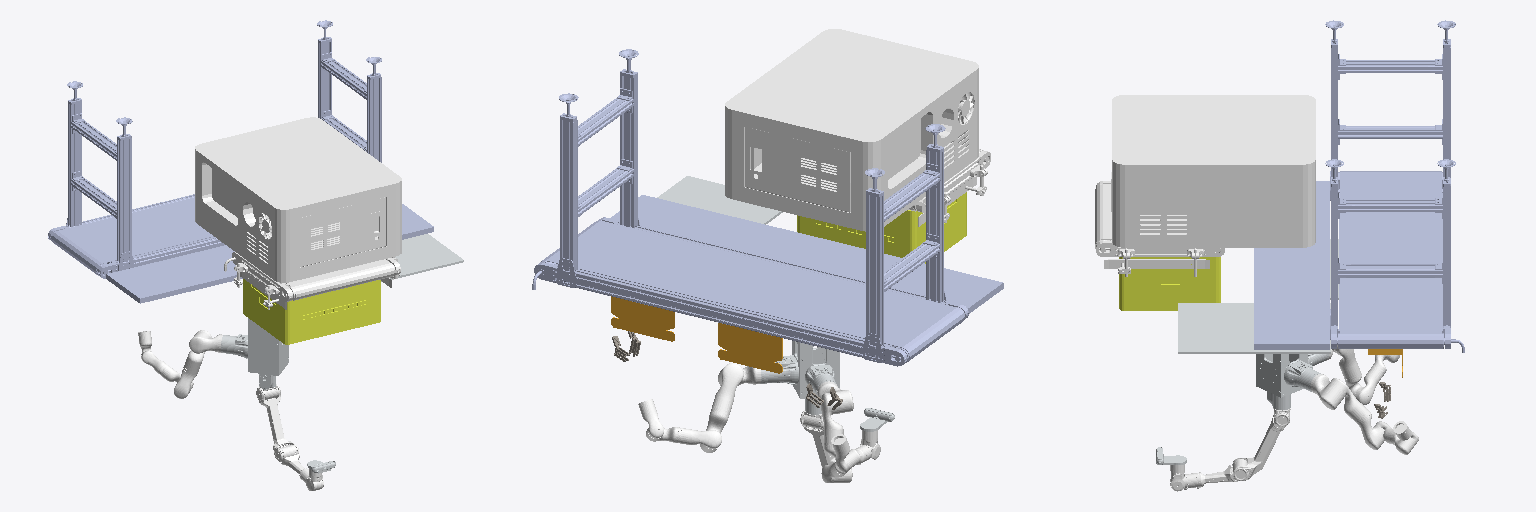
--- Render facts (derived) ---
The picture shows the robot from 3 angles, left to right: view 1: azimuth 30°, elevation 25°; view 2: azimuth 150°, elevation 25°; view 3: azimuth 270°, elevation 25°; orthographic projection.
Model robot_V26 with 31 links and 30 joints (23 revolute, 7 fixed), rooted at base_link, posed every joint at zero.
Links seen in each view (by area): view 1: bsae4, PD, box_link, platform_link, base2, Link_S2, Link_B2, Link_B1; view 2: PD, bsae4, box_link, platform_link, base2, Sbox2, Sbox1, Link_A2, Link_B2, Link_A3, Link_B1, Link_A5 (+1 smaller); view 3: PD, bsae4, base2, box_link, platform_link, Link_S2, Link_A2, Link_A1, Link_B2, Link_S3, Link_B3.
Link boxes in pixels (x1,y1,x2,y2): bsae4: (195,117,401,309); PD: (48,20,433,303); box_link: (243,279,380,344); platform_link: (221,318,288,389); base2: (381,234,463,281); Link_S2: (256,386,298,461); Link_B2: (174,330,211,398); Link_B1: (189,332,222,353); PD: (532,49,1003,366); bsae4: (725,29,990,231); box_link: (797,192,966,263); platform_link: (760,341,839,414); base2: (657,176,782,224); Sbox2: (718,323,782,373); Sbox1: (611,296,674,341); Link_A2: (700,363,743,452); Link_B2: (821,393,852,482); Link_A3: (677,427,721,448); Link_B1: (817,381,853,414); Link_A5: (638,399,663,437); PD: (1254,20,1464,352); bsae4: (1095,95,1315,276); base2: (1178,303,1330,353); box_link: (1119,257,1220,310); platform_link: (1256,354,1328,410); Link_S2: (1232,412,1289,480); Link_A2: (1331,378,1384,449); Link_A1: (1311,374,1346,409); Link_B2: (1336,345,1363,396); Link_S3: (1186,459,1247,488); Link_B3: (1356,365,1384,404).
Size in the robot's own frame: 1.56 by 1.45 by 1.72 metres.
28 mesh visuals loaded from 31 distinct referenced files (28 binary STL); not drawn: 3 (reference not matched to a file when rendering).

URDF robot description (robot_V26):
<?xml version="1.0" encoding="utf-8"?>
<!-- This URDF was automatically created by SolidWorks to URDF Exporter! Originally created by Stephen Brawner ([email redacted]) 
     Commit Version: 1.6.0-4-g7f85cfe  Build Version: 1.6.7995.38578
     For more information, please see http://wiki.ros.org/sw_urdf_exporter -->
<robot
  name="robot_V26">
  <link
    name="base_link">
    <inertial>
      <origin
        xyz="0.000433147072937283 -0.0560104420122413 0.235023220634512"
        rpy="0 0 0" />
      <mass
        value="186.068426983297" />
      <inertia
        ixx="5.13366744953187"
        ixy="4.82885339620413E-08"
        ixz="-2.48383948380018E-09"
        iyy="9.61398925705965"
        iyz="0.0555472265211471"
        izz="8.42705967760061" />
    </inertial>
    <visual>
      <origin
        xyz="0 0 0"
        rpy="0 0 0" />
      <geometry>
        <mesh
          filename="../meshes/base_link.STL" />
      </geometry>
      <material
        name="">
        <color
          rgba="0.6 0.6 0.6 1" />
      </material>
    </visual>
    <collision>
      <origin
        xyz="0 0 0"
        rpy="0 0 0" />
      <geometry>
        <mesh
          filename="../meshes/base_link.STL" />
      </geometry>
    </collision>
  </link>
  <link
    name="platform_link">
    <inertial>
      <origin
        xyz="0.00621557288384057 0.0303445183415779 -0.183382568462776"
        rpy="0 0 0" />
      <mass
        value="6.07294405347568" />
      <inertia
        ixx="0.0337898340637685"
        ixy="-0.00102088842956734"
        ixz="-7.64193248724239E-06"
        iyy="0.0339585958829543"
        iyz="-5.04855556084014E-05"
        izz="0.0128636661576432" />
    </inertial>
    <visual>
      <origin
        xyz="0 0 0"
        rpy="0 0 0" />
      <geometry>
        <mesh
          filename="../meshes/platform_link.STL" />
      </geometry>
      <material
        name="">
        <color
          rgba="0.898039215686275 0.917647058823529 0.929411764705882 1" />
      </material>
    </visual>
    <collision>
      <origin
        xyz="0 0 0"
        rpy="0 0 0" />
      <geometry>
        <mesh
          filename="../meshes/platform_link.STL" />
      </geometry>
    </collision>
  </link>
  <joint
    name="joint_platform_D1"
    type="revolute">
    <origin
      xyz="0 0 0"
      rpy="0 0 0" />
    <parent
      link="base_link" />
    <child
      link="platform_link" />
    <axis
      xyz="0 0 -1" />
    <limit
      lower="-3.14"
      upper="3.14"
      effort="100"
      velocity="50" />
  </joint>
  <link
    name="Link_A1">
    <inertial>
      <origin
        xyz="0.0169308367894223 0.0125928013215484 0.0768128774242119"
        rpy="0 0 0" />
      <mass
        value="0.593525762282562" />
      <inertia
        ixx="0.001211740353914"
        ixy="-4.04510751675718E-05"
        ixz="-0.000169403894082202"
        iyy="0.00123597531032555"
        iyz="-0.000126111277061559"
        izz="0.000561310092473764" />
    </inertial>
    <visual>
      <origin
        xyz="0 0 0"
        rpy="0 0 0" />
      <geometry>
        <mesh
          filename="../meshes/Link_A1.STL" />
      </geometry>
      <material
        name="">
        <color
          rgba="1 1 1 1" />
      </material>
    </visual>
    <collision>
      <origin
        xyz="0 0 0"
        rpy="0 0 0" />
      <geometry>
        <mesh
          filename="../meshes/Link_A1.STL" />
      </geometry>
    </collision>
  </link>
  <joint
    name="joint_platform_A1"
    type="revolute">
    <origin
      xyz="0.156472683129336 0.142433967655858 -0.227311716711955"
      rpy="-1.57079632679501 0 -0.826733214100753" />
    <parent
      link="platform_link" />
    <child
      link="Link_A1" />
    <axis
      xyz="0 0 1" />
    <limit
      lower="-3.14"
      upper="3.14"
      effort="100"
      velocity="50" />
  </joint>
  <link
    name="Link_A2">
    <inertial>
      <origin
        xyz="-0.0126344741529678 -0.151722416547969 0.0226638905008693"
        rpy="0 0 0" />
      <mass
        value="0.86418121779446" />
      <inertia
        ixx="0.00204291602200734"
        ixy="-0.000117497066496082"
        ixz="3.49972875797524E-05"
        iyy="0.00064232321003002"
        iyz="0.000420166412207833"
        izz="0.00195279780759874" />
    </inertial>
    <visual>
      <origin
        xyz="0 0 0"
        rpy="0 0 0" />
      <geometry>
        <mesh
          filename="../meshes/Link_A2.STL" />
      </geometry>
      <material
        name="">
        <color
          rgba="1 1 1 1" />
      </material>
    </visual>
    <collision>
      <origin
        xyz="0 0 0"
        rpy="0 0 0" />
      <geometry>
        <mesh
          filename="../meshes/Link_A2.STL" />
      </geometry>
    </collision>
  </link>
  <joint
    name="joint_platform_A2"
    type="revolute">
    <origin
      xyz="-0.0132108472999706 -0.00983204731723247 0.101999999998849"
      rpy="-1.5707963267949 -1.06818707313174 -0.930882582622158" />
    <parent
      link="Link_A1" />
    <child
      link="Link_A2" />
    <axis
      xyz="0 0 1" />
    <limit
      lower="-2.26"
      upper="2.26"
      effort="100"
      velocity="50" />
  </joint>
  <link
    name="Link_A3">
    <inertial>
      <origin
        xyz="0.0578270540391275 -0.0144992247222056 0.00266652645528004"
        rpy="0 0 0" />
      <mass
        value="0.289645631718229" />
      <inertia
        ixx="0.000184905971778833"
        ixy="0.000113389606191271"
        ixz="-0.000140277058410494"
        iyy="0.000608954988576286"
        iyz="3.51374387511307E-05"
        izz="0.000614182812194689" />
    </inertial>
    <visual>
      <origin
        xyz="0 0 0"
        rpy="0 0 0" />
      <geometry>
        <mesh
          filename="../meshes/Link_A3.STL" />
      </geometry>
      <material
        name="">
        <color
          rgba="1 1 1 1" />
      </material>
    </visual>
    <collision>
      <origin
        xyz="0 0 0"
        rpy="0 0 0" />
      <geometry>
        <mesh
          filename="../meshes/Link_A3.STL" />
      </geometry>
    </collision>
  </link>
  <joint
    name="joint_platform_A3"
    type="revolute">
    <origin
      xyz="-0.0212703972736464 -0.255104561293881 0.00352514725879639"
      rpy="0 0 0" />
    <parent
      link="Link_A2" />
    <child
      link="Link_A3" />
    <axis
      xyz="0 0 1" />
    <limit
      lower="-2.26"
      upper="2.26"
      effort="100"
      velocity="50" />
  </joint>
  <link
    name="Link_A4">
    <inertial>
      <origin
        xyz="0.0168960078739982 -0.00633304042254657 -0.0599615142706841"
        rpy="0 0 0" />
      <mass
        value="0.239433776203735" />
      <inertia
        ixx="0.000265607042244076"
        ixy="7.64305472317407E-06"
        ixz="4.14131928527047E-05"
        iyy="0.000283077938628801"
        iyz="-1.55624790065709E-05"
        izz="0.000119899347836856" />
    </inertial>
    <visual>
      <origin
        xyz="0 0 0"
        rpy="0 0 0" />
      <geometry>
        <mesh
          filename="../meshes/Link_A4.STL" />
      </geometry>
      <material
        name="">
        <color
          rgba="1 1 1 1" />
      </material>
    </visual>
    <collision>
      <origin
        xyz="0 0 0"
        rpy="0 0 0" />
      <geometry>
        <mesh
          filename="../meshes/Link_A4.STL" />
      </geometry>
    </collision>
  </link>
  <joint
    name="joint_platform_A4"
    type="revolute">
    <origin
      xyz="0.124662762966528 -0.0312689999385135 0.013235949944407"
      rpy="-1.5707963267949 -1.21130110529 1.32513220794321" />
    <parent
      link="Link_A3" />
    <child
      link="Link_A4" />
    <axis
      xyz="0 0 -1" />
    <limit
      lower="-3.14"
      upper="3.14"
      effort="100"
      velocity="50" />
  </joint>
  <link
    name="Link_A5">
    <inertial>
      <origin
        xyz="0.038009420996225 0.0456440435563882 0.00506811024883674"
        rpy="0 0 0" />
      <mass
        value="0.21879390742709" />
      <inertia
        ixx="0.000249967652296182"
        ixy="-0.000120769330574946"
        ixz="-5.00570636284899E-05"
        iyy="0.000205482026171739"
        iyz="-6.01294716590356E-05"
        izz="0.000334465809435568" />
    </inertial>
    <visual>
      <origin
        xyz="0 0 0"
        rpy="0 0 0" />
      <geometry>
        <mesh
          filename="../meshes/Link_A5.STL" />
      </geometry>
      <material
        name="">
        <color
          rgba="1 1 1 1" />
      </material>
    </visual>
    <collision>
      <origin
        xyz="0 0 0"
        rpy="0 0 0" />
      <geometry>
        <mesh
          filename="../meshes/Link_A5.STL" />
      </geometry>
    </collision>
  </link>
  <joint
    name="joint_platform_A5"
    type="revolute">
    <origin
      xyz="-0.0113606247812901 0.0042683371510126 -0.0814999999999998"
      rpy="1.5707963267949 1.32513220794321 1.21130110529" />
    <parent
      link="Link_A4" />
    <child
      link="Link_A5" />
    <axis
      xyz="0 0 1" />
    <limit
      lower="-2.2"
      upper="2.2"
      effort="100"
      velocity="50" />
  </joint>
  <link
    name="Link_A6">
    <inertial>
      <origin
        xyz="0.0103201473783717 0.0231563190196556 0.0565997915426926"
        rpy="0 0 0" />
      <mass
        value="0.451431232657582" />
      <inertia
        ixx="0.00022927173803935"
        ixy="-4.51808436026412E-05"
        ixz="-4.22975637695025E-09"
        iyy="0.000147938161669035"
        iyz="-3.34078039209366E-08"
        izz="0.000355045117472867" />
    </inertial>
    <visual>
      <origin
        xyz="0 0 0"
        rpy="0 0 0" />
      <geometry>
        <mesh
          filename="../meshes/Link_A6.STL" />
      </geometry>
      <material
        name="">
        <color
          rgba="1 1 1 1" />
      </material>
    </visual>
    <collision>
      <origin
        xyz="0 0 0"
        rpy="0 0 0" />
      <geometry>
        <mesh
          filename="../meshes/Link_A6.STL" />
      </geometry>
    </collision>
  </link>
  <joint
    name="joint_platform_A6"
    type="revolute">
    <origin
      xyz="0.0736102642149934 0.0883749191141996 0.0124357145512975"
      rpy="-1.57079646161027 -0.699913541621339 -0.694444981452453" />
    <parent
      link="Link_A5" />
    <child
      link="Link_A6" />
    <axis
      xyz="0 0 0.999999999999972" />
    <limit
      lower="-6.2"
      upper="6.2"
      effort="100"
      velocity="50" />
  </joint>
  <link
    name="gripper1_joint_L1">
    <inertial>
      <origin
        xyz="0.0193485447750683 0.0118828476099397 0.00284999999999991"
        rpy="0 0 0" />
      <mass
        value="0.000941962264171641" />
      <inertia
        ixx="3.71698394795775E-09"
        ixy="6.46234853557053E-26"
        ixz="2.68833699079734E-24"
        iyy="3.71698394795775E-09"
        iyz="1.93870456067116E-24"
        izz="4.66459883925088E-09" />
    </inertial>
    <visual>
      <origin
        xyz="0 0 0"
        rpy="0 0 0" />
      <geometry>
        <mesh
          filename="../meshes/gripper1_joint_L1.STL" />
      </geometry>
      <material
        name="">
        <color
          rgba="0.647058823529412 0.619607843137255 0.588235294117647 1" />
      </material>
    </visual>
    <collision>
      <origin
        xyz="0 0 0"
        rpy="0 0 0" />
      <geometry>
        <mesh
          filename="../meshes/gripper1_joint_L1.STL" />
      </geometry>
    </collision>
  </link>
  <joint
    name="joint_L1"
    type="revolute">
    <origin
      xyz="0.0287436344008424 -0.00953338282129984 0.171668647520541"
      rpy="1.57079661563452 -0.608970776956548 -0.419093504395419" />
    <parent
      link="Link_A6" />
    <child
      link="gripper1_joint_L1" />
    <axis
      xyz="0 0 -1" />
    <limit
      lower="-1.5"
      upper="1.5"
      effort="100"
      velocity="5" />
  </joint>
  <link
    name="gripper1_joint_L11">
    <inertial>
      <origin
        xyz="-0.00547756233416546 -0.0220453575041241 0.00234999999999985"
        rpy="0 0 0" />
      <mass
        value="0.000941962264171641" />
      <inertia
        ixx="3.71698394795776E-09"
        ixy="1.68021061924834E-25"
        ixz="2.06795153138257E-25"
        iyy="3.71698394795776E-09"
        iyz="-1.55096364853693E-25"
        izz="4.66459883925089E-09" />
    </inertial>
    <visual>
      <origin
        xyz="0 0 0"
        rpy="0 0 0" />
      <geometry>
        <mesh
          filename="../meshes/gripper1_joint_L11.STL" />
      </geometry>
      <material
        name="">
        <color
          rgba="0.647058823529412 0.619607843137255 0.588235294117647 1" />
      </material>
    </visual>
    <collision>
      <origin
        xyz="0 0 0"
        rpy="0 0 0" />
      <geometry>
        <mesh
          filename="../meshes/gripper1_joint_L11.STL" />
      </geometry>
    </collision>
  </link>
  <joint
    name="joint_L11"
    type="revolute">
    <origin
      xyz="-0.0263219176910475 0.0149975228847674 0.171647022948943"
      rpy="-1.57079662537937 0.654311324220914 2.72249913269507" />
    <parent
      link="Link_A6" />
    <child
      link="gripper1_joint_L11" />
    <axis
      xyz="0 0 -1" />
    <limit
      lower="-3.14"
      upper="3.14"
      effort="100"
      velocity="5" />
  </joint>
  <link
    name="Link_B1">
    <inertial>
      <origin
        xyz="-0.0210307613582223 -0.0018029682366224 0.0768121445945208"
        rpy="0 0 0" />
      <mass
        value="0.593520735842376" />
      <inertia
        ixx="0.00118220902268505"
        ixy="-7.13360807959133E-06"
        ixz="0.000210418401826395"
        iyy="0.00126545372417533"
        iyz="1.79133915985154E-05"
        izz="0.000561301309181966" />
    </inertial>
    <visual>
      <origin
        xyz="0 0 0"
        rpy="0 0 0" />
      <geometry>
        <mesh
          filename="../meshes/Link_B1.STL" />
      </geometry>
      <material
        name="">
        <color
          rgba="1 1 1 1" />
      </material>
    </visual>
    <collision>
      <origin
        xyz="0 0 0"
        rpy="0 0 0" />
      <geometry>
        <mesh
          filename="../meshes/Link_B1.STL" />
      </geometry>
    </collision>
  </link>
  <joint
    name="joint_platform_B1"
    type="revolute">
    <origin
      xyz="-0.142473632839857 0.155636147433961 -0.227311716711636"
      rpy="-1.57079632679501 0 0.744063112694143" />
    <parent
      link="platform_link" />
    <child
      link="Link_B1" />
    <axis
      xyz="0 0 1" />
    <limit
      lower="-3.1"
      upper="3.1"
      effort="100"
      velocity="50" />
  </joint>
  <link
    name="Link_B2">
    <inertial>
      <origin
        xyz="-0.05129234753464 0.143368762266122 -0.022663815567925"
        rpy="0 0 0" />
      <mass
        value="0.86418023642289" />
      <inertia
        ixx="0.00189155350029881"
        ixy="0.000450453971938174"
        ixz="-0.000142032222820076"
        iyy="0.000793701619531189"
        iyz="0.000396980897230203"
        izz="0.00195281240968516" />
    </inertial>
    <visual>
      <origin
        xyz="0 0 0"
        rpy="0 0 0" />
      <geometry>
        <mesh
          filename="../meshes/Link_B2.STL" />
      </geometry>
      <material
        name="">
        <color
          rgba="1 1 1 1" />
      </material>
    </visual>
    <collision>
      <origin
        xyz="0 0 0"
        rpy="0 0 0" />
      <geometry>
        <mesh
          filename="../meshes/Link_B2.STL" />
      </geometry>
    </collision>
  </link>
  <joint
    name="joint_platform_B2"
    type="revolute">
    <origin
      xyz="0.0164025952708852 0.00137401341327159 0.102000000000029"
      rpy="0.0849621690785075 1.5707963267949 0" />
    <parent
      link="Link_B1" />
    <child
      link="Link_B2" />
    <axis
      xyz="0 0 1" />
    <limit
      lower="-2.26"
      upper="2.26"
      effort="100"
      velocity="50" />
  </joint>
  <link
    name="Link_B3">
    <inertial>
      <origin
        xyz="-0.0445835519365935 0.0396010729673631 0.00266699546761176"
        rpy="0 0 0" />
      <mass
        value="0.289639334892493" />
      <inertia
        ixx="0.000368538526302153"
        ixy="0.000238752152606206"
        ixz="0.000108127863740364"
        iyy="0.00042530023019444"
        iyz="-9.60150249020287E-05"
        izz="0.000614165798652773" />
    </inertial>
    <visual>
      <origin
        xyz="0 0 0"
        rpy="0 0 0" />
      <geometry>
        <mesh
          filename="../meshes/Link_B3.STL" />
      </geometry>
      <material
        name="">
        <color
          rgba="1 1 1 1" />
      </material>
    </visual>
    <collision>
      <origin
        xyz="0 0 0"
        rpy="0 0 0" />
      <geometry>
        <mesh
          filename="../meshes/Link_B3.STL" />
      </geometry>
    </collision>
  </link>
  <joint
    name="joint_platform_B3"
    type="revolute">
    <origin
      xyz="-0.0862037470031803 0.241063204199487 -0.00352514725905964"
      rpy="3.14159265358979 0 -0.0919224225404343" />
    <parent
      link="Link_B2" />
    <child
      link="Link_B3" />
    <axis
      xyz="0 0 1" />
    <limit
      lower="-2.26"
      upper="2.26"
      effort="100"
      velocity="50" />
  </joint>
  <link
    name="Link_B4">
    <inertial>
      <origin
        xyz="-0.00734522629108841 0.0164811078491406 -0.0599618100808766"
        rpy="0 0 0" />
      <mass
        value="0.239430613356859" />
      <inertia
        ixx="0.000282116069340485"
        ixy="8.619121975907E-06"
        ixz="-1.79748327822413E-05"
        iyy="0.000266568837663141"
        iyz="4.04244202966507E-05"
        izz="0.000119899571670422" />
    </inertial>
    <visual>
      <origin
        xyz="0 0 0"
        rpy="0 0 0" />
      <geometry>
        <mesh
          filename="../meshes/Link_B4.STL" />
      </geometry>
      <material
        name="">
        <color
          rgba="1 1 1 1" />
      </material>
    </visual>
    <collision>
      <origin
        xyz="0 0 0"
        rpy="0 0 0" />
      <geometry>
        <mesh
          filename="../meshes/Link_B4.STL" />
      </geometry>
    </collision>
  </link>
  <joint
    name="joint_platform_B4"
    type="revolute">
    <origin
      xyz="-0.0960920462857941 0.0853717682345888 0.013226827485807"
      rpy="1.57079632679491 1.01854263840748 0.844439767031704" />
    <parent
      link="Link_B3" />
    <child
      link="Link_B4" />
    <axis
      xyz="0 0 1" />
    <limit
      lower="-3.14"
      upper="3.14"
      effort="100"
      velocity="50" />
  </joint>
  <link
    name="Link_B5">
    <inertial>
      <origin
        xyz="0.0113936099776971 0.0581872091852206 0.00506814577202197"
        rpy="0 0 0" />
      <mass
        value="0.218793312303163" />
      <inertia
        ixx="0.000341452636306923"
        ixy="-4.6320357829731E-05"
        ixz="-1.50283451284409E-05"
        iyy="0.000113994702339846"
        iyz="-7.67811878497607E-05"
        izz="0.000334463188331327" />
    </inertial>
    <visual>
      <origin
        xyz="0 0 0"
        rpy="0 0 0" />
      <geometry>
        <mesh
          filename="../meshes/Link_B5.STL" />
      </geometry>
      <material
        name="">
        <color
          rgba="1 1 1 1" />
      </material>
    </visual>
    <collision>
      <origin
        xyz="0 0 0"
        rpy="0 0 0" />
      <geometry>
        <mesh
          filename="../meshes/Link_B5.STL" />
      </geometry>
    </collision>
  </link>
  <joint
    name="joint_platform_B5"
    type="revolute">
    <origin
      xyz="0.00498093355069423 -0.0110668807595307 -0.0815561902327434"
      rpy="-1.5707963267949 -0.573741362025699 0.418364132516817" />
    <parent
      link="Link_B4" />
    <child
      link="Link_B5" />
    <axis
      xyz="0 0 1" />
    <limit
      lower="-2.2"
      upper="2.2"
      effort="100"
      velocity="50" />
  </joint>
  <link
    name="Link_B6">
    <inertial>
      <origin
        xyz="-0.00294730022944073 0.0251822049216943 0.0565997798247693"
        rpy="0 0 0" />
      <mass
        value="0.451431434138226" />
      <inertia
        ixx="0.000247729151832058"
        ixy="1.41219601118001E-05"
        ixz="1.34224418449947E-08"
        iyy="0.00012948082155834"
        iyz="-3.08228001316928E-08"
        izz="0.000355045211995034" />
    </inertial>
    <visual>
      <origin
        xyz="0 0 0"
        rpy="0 0 0" />
      <geometry>
        <mesh
          filename="../meshes/Link_B6.STL" />
      </geometry>
      <material
        name="">
        <color
          rgba="1 1 1 1" />
      </material>
    </visual>
    <collision>
      <origin
        xyz="0 0 0"
        rpy="0 0 0" />
      <geometry>
        <mesh
          filename="../meshes/Link_B6.STL" />
      </geometry>
    </collision>
  </link>
  <joint
    name="joint_platform_B6"
    type="revolute">
    <origin
      xyz="0.0220769553081411 0.112769294031951 0.0124298510263973"
      rpy="-1.5707963267949 0.363602003221376 -0.193504212101692" />
    <parent
      link="Link_B5" />
    <child
      link="Link_B6" />
    <axis
      xyz="0 0 1" />
    <limit
      lower="-6.2"
      upper="6.2"
      effort="100"
      velocity="50" />
  </joint>
  <link
    name="gripper1_joint_R1">
    <inertial>
      <origin
        xyz="0.0118015077503003 0.0201258898652393 0.00285000000000057"
        rpy="0 0 0" />
      <mass
        value="0.000941962264171641" />
      <inertia
        ixx="3.71698394795775E-09"
        ixy="-1.55096364853693E-25"
        ixz="-6.20385459414771E-25"
        iyy="3.71698394795775E-09"
        iyz="1.75775880167518E-24"
        izz="4.66459883925088E-09" />
    </inertial>
    <visual>
      <origin
        xyz="0 0 0"
        rpy="0 0 0" />
      <geometry>
        <mesh
          filename="../meshes/gripper1_joint_R1.STL" />
      </geometry>
      <material
        name="">
        <color
          rgba="0.647058823529412 0.619607843137255 0.588235294117647 1" />
      </material>
    </visual>
    <collision>
      <origin
        xyz="0 0 0"
        rpy="0 0 0" />
      <geometry>
        <mesh
          filename="../meshes/gripper1_joint_R1.STL" />
      </geometry>
    </collision>
  </link>
  <joint
    name="joint_R1"
    type="revolute">
    <origin
      xyz="0.0295907775490525 0.00649223429478463 0.171668646802052"
      rpy="1.5707963267949 -0.182359123558308 0.117102273402236" />
    <parent
      link="Link_B6" />
    <child
      link="gripper1_joint_R1" />
    <axis
      xyz="0 0 -1" />
    <limit
      lower="-1.5"
      upper="1.5"
      effort="100"
      velocity="5" />
  </joint>
  <link
    name="gripper1_joint_R11">
    <inertial>
      <origin
        xyz="-0.00514362268148821 0.0221256552968719 0.00235000000000096"
        rpy="0 0 0" />
      <mass
        value="0.000941962264171637" />
      <inertia
        ixx="3.71698394795773E-09"
        ixy="-5.16987882845642E-26"
        ixz="-6.20385459414771E-25"
        iyy="3.71698394795773E-09"
        iyz="-1.75775880167518E-24"
        izz="4.66459883925086E-09" />
    </inertial>
    <visual>
      <origin
        xyz="0 0 0"
        rpy="0 0 0" />
      <geometry>
        <mesh
          filename="../meshes/gripper1_joint_R11.STL" />
      </geometry>
      <material
        name="">
        <color
          rgba="0.647058823529412 0.619607843137255 0.588235294117647 1" />
      </material>
    </visual>
    <collision>
      <origin
        xyz="0 0 0"
        rpy="0 0 0" />
      <geometry>
        <mesh
          filename="../meshes/gripper1_joint_R11.STL" />
      </geometry>
    </collision>
  </link>
  <joint
    name="joint_R11"
    type="revolute">
    <origin
      xyz="-0.0302788739118513 -0.000550861324005947 0.171647022251381"
      rpy="1.5707963267949 -0.182359123558308 0.117102273402236" />
    <parent
      link="Link_B6" />
    <child
      link="gripper1_joint_R11" />
    <axis
      xyz="0 0 -1" />
    <limit
      lower="-1.5"
      upper="1.5"
      effort="100"
      velocity="5" />
  </joint>
  <link
    name="Link_S1">
    <inertial>
      <origin
        xyz="-0.00111431623367673 -0.000394920204415852 -0.027976557476941"
        rpy="0 0 0" />
      <mass
        value="0.106878620604356" />
      <inertia
        ixx="7.78786903515349E-05"
        ixy="-1.60681975184578E-08"
        ixz="2.61075287396989E-06"
        iyy="9.22279471336507E-05"
        iyz="2.93084723436218E-07"
        izz="8.34708373040095E-05" />
    </inertial>
    <visual>
      <origin
        xyz="0 0 0"
        rpy="0 0 0" />
      <geometry>
        <mesh
          filename="../meshes/Link_S1.STL" />
      </geometry>
      <material
        name="">
        <color
          rgba="1 1 1 1" />
      </material>
    </visual>
    <collision>
      <origin
        xyz="0 0 0"
        rpy="0 0 0" />
      <geometry>
        <mesh
          filename="../meshes/Link_S1.STL" />
      </geometry>
    </collision>
  </link>
  <joint
    name="joint_platform_S1"
    type="revolute">
    <origin
      xyz="0.000433041860730524 0.000398644471470921 -0.39995"
      rpy="0 0 0" />
    <parent
      link="platform_link" />
    <child
      link="Link_S1" />
    <axis
      xyz="0 0 1" />
    <limit
      lower="-2.68"
      upper="2.68"
      effort="100"
      velocity="50" />
  </joint>
  <link
    name="Link_S2">
    <inertial>
      <origin
        xyz="0.0724194778767879 -0.131936188075807 0.044406043154082"
        rpy="0 0 0" />
      <mass
        value="0.203920919386394" />
      <inertia
        ixx="0.00128889812936827"
        ixy="0.00066263638005062"
        ixz="-7.91150391912718E-06"
        iyy="0.000642111780427921"
        iyz="3.83146896594997E-07"
        izz="0.00162755121218312" />
    </inertial>
    <visual>
      <origin
        xyz="0 0 0"
        rpy="0 0 0" />
      <geometry>
        <mesh
          filename="../meshes/Link_S2.STL" />
      </geometry>
      <material
        name="">
        <color
          rgba="1 1 1 1" />
      </material>
    </visual>
    <collision>
      <origin
        xyz="0 0 0"
        rpy="0 0 0" />
      <geometry>
        <mesh
          filename="../meshes/Link_S2.STL" />
      </geometry>
    </collision>
  </link>
  <joint
    name="joint_platform_S2"
    type="revolute">
    <origin
      xyz="0.0367444027969984 0.00064137593620528 -0.0370499999999101"
      rpy="1.5707963267949 0 -1.5533430342851" />
    <parent
      link="Link_S1" />
    <child
      link="Link_S2" />
    <axis
      xyz="0 0 1" />
    <limit
      lower="0"
      upper="3.3"
      effort="100"
      velocity="50" />
  </joint>
  <link
    name="Link_S3">
    <inertial>
      <origin
        xyz="0.100943213162187 -0.0283683578342203 0.0476334565574921"
        rpy="0 0 0" />
      <mass
        value="0.259290582671513" />
      <inertia
        ixx="9.87188428452086E-05"
        ixy="1.87582848560715E-05"
        ixz="-9.74231758607964E-07"
        iyy="0.00018114878198025"
        iyz="6.25962927670279E-07"
        izz="0.000209231319367455" />
    </inertial>
    <visual>
      <origin
        xyz="0 0 0"
        rpy="0 0 0" />
      <geometry>
        <mesh
          filename="../meshes/Link_S3.STL" />
      </geometry>
      <material
        name="">
        <color
          rgba="1 1 1 1" />
      </material>
    </visual>
    <collision>
      <origin
        xyz="0 0 0"
        rpy="0 0 0" />
      <geometry>
        <mesh
          filename="../meshes/Link_S3.STL" />
      </geometry>
    </collision>
  </link>
  <joint
    name="joint_platform_S3"
    type="revolute">
    <origin
      xyz="0.162822697705282 -0.233968487158141 -0.0104499999999984"
      rpy="0 0 0" />
    <parent
      link="Link_S2" />
    <child
      link="Link_S3" />
    <axis
      xyz="0 0 1" />
    <limit
      lower="0"
      upper="3.14"
      effort="100"
      velocity="50" />
  </joint>
  <link
    name="Link_S4">
    <inertial>
      <origin
        xyz="0.0010759185525 -0.000204149505515172 0.0322093232269932"
        rpy="0 0 0" />
      <mass
        value="0.120706963047308" />
      <inertia
        ixx="4.59016732660943E-05"
        ixy="2.29836809855153E-08"
        ixz="6.83876846477265E-08"
        iyy="3.6618670401351E-05"
        iyz="-4.66820691740301E-08"
        izz="3.90050008284305E-05" />
    </inertial>
    <visual>
      <origin
        xyz="0 0 0"
        rpy="0 0 0" />
      <geometry>
        <mesh
          filename="../meshes/Link_S4.STL" />
      </geometry>
      <material
        name="">
        <color
          rgba="1 1 1 1" />
      </material>
    </visual>
    <collision>
      <origin
        xyz="0 0 0"
        rpy="0 0 0" />
      <geometry>
        <mesh
          filename="../meshes/Link_S4.STL" />
      </geometry>
    </collision>
  </link>
  <joint
    name="joint_platform_S4"
    type="revolute">
    <origin
      xyz="0.210129289624401 -0.0494636890451812 0.047199999999998"
      rpy="1.57079632679571 1.56854804510877 1.44163329792559" />
    <parent
      link="Link_S3" />
    <child
      link="Link_S4" />
    <axis
      xyz="0 0 -1" />
    <limit
      lower="-1.55"
      upper="1.55"
      effort="100"
      velocity="50" />
  </joint>
  <link
    name="Link_S5">
    <inertial>
      <origin
        xyz="3.87216944853774E-05 -0.0573117732740405 -0.0211795210933351"
        rpy="0 0 0" />
      <mass
        value="0.136460062693172" />
      <inertia
        ixx="0.000120531193110392"
        ixy="-2.72999648307107E-07"
        ixz="4.65206341731827E-08"
        iyy="6.56087190659654E-05"
        iyz="-2.43327384342589E-05"
        izz="0.000114403333421258" />
    </inertial>
    <visual>
      <origin
        xyz="0 0 0"
        rpy="0 0 0" />
      <geometry>
        <mesh
          filename="../meshes/Link_S5.STL" />
      </geometry>
      <material
        name="">
        <color
          rgba="1 1 1 1" />
      </material>
    </visual>
    <collision>
      <origin
        xyz="0 0 0"
        rpy="0 0 0" />
      <geometry>
        <mesh
          filename="../meshes/Link_S5.STL" />
      </geometry>
    </collision>
  </link>
  <joint
    name="joint_platform_S5"
    type="revolute">
    <origin
      xyz="0.0239199395449672 -5.37788526262517E-05 0.0369999999999999"
      rpy="1.57079632679489 -1.4416332979245 1.56854804510879" />
    <parent
      link="Link_S4" />
    <child
      link="Link_S5" />
    <axis
      xyz="0 0 -1" />
    <limit
      lower="-1.55"
      upper="1.55"
      effort="100"
      velocity="50" />
  </joint>
  <link
    name="Link_S6">
    <inertial>
      <origin
        xyz="0.000874537749214421 -0.0417696007733942 0.0121227761487945"
        rpy="0 0 0" />
      <mass
        value="0.319123225490564" />
      <inertia
        ixx="0.000210288101608249"
        ixy="5.15533868165301E-09"
        ixz="6.73512565951391E-07"
        iyy="0.000226598972704927"
        iyz="-2.80611239630406E-07"
        izz="0.000419233741366659" />
    </inertial>
    <visual>
      <origin
        xyz="0 0 0"
        rpy="0 0 0" />
      <geometry>
        <mesh
          filename="../meshes/Link_S6.STL" />
      </geometry>
      <material
        name="">
        <color
          rgba="0.898039215686275 0.917647058823529 0.929411764705882 1" />
      </material>
    </visual>
    <collision>
      <origin
        xyz="0 0 0"
        rpy="0 0 0" />
      <geometry>
        <mesh
          filename="../meshes/Link_S6.STL" />
      </geometry>
    </collision>
  </link>
  <joint
    name="joint_platform_S6"
    type="revolute">
    <origin
      xyz="0 -0.0909999999999964 -0.0249165214861997"
      rpy="1.57079632679511 -1.55334303428509 0" />
    <parent
      link="Link_S5" />
    <child
      link="Link_S6" />
    <axis
      xyz="0 0 -1" />
    <limit
      lower="-3"
      upper="3"
      effort="100"
      velocity="50" />
  </joint>
  <link
    name="box_link">
    <inertial>
      <origin
        xyz="-0.000281606739832099 -3.97189127698816E-08 -0.081439091931118"
        rpy="0 0 0" />
      <mass
        value="5.57765292852931" />
      <inertia
        ixx="0.160527563681421"
        ixy="-1.08066372431341E-13"
        ixz="1.94871539327183E-15"
        iyy="0.222931123608603"
        iyz="2.80244562548696E-09"
        izz="0.303216770492903" />
    </inertial>
    <visual>
      <origin
        xyz="0 0 0"
        rpy="0 0 0" />
      <geometry>
        <mesh
          filename="../meshes/box_link.STL" />
      </geometry>
      <material
        name="">
        <color
          rgba="0.96078431372549 1 0.341176470588235 1" />
      </material>
    </visual>
   <collision>
    <origin xyz="0 0 0.005" rpy="0 0 0"/>
    <geometry>
      <box size="0.5 0.4 0.01"/>
    </geometry>
  </collision>

  <collision>
    <origin xyz="0 0.195 0.125" rpy="0 0 0"/>
    <geometry>
      <box size="0.5 0.01 0.25"/>
    </geometry>
  </collision>

  <collision>
    <origin xyz="0 -0.195 0.125" rpy="0 0 0"/>
    <geometry>
      <box size="0.5 0.01 0.25"/>
    </geometry>
  </collision>

  <collision>
    <origin xyz="-0.245 0 0.125" rpy="0 0 0"/>
    <geometry>
      <box size="0.01 0.4 0.25"/>
    </geometry>
  </collision>

  <collision>
    <origin xyz="0.245 0 0.125" rpy="0 0 0"/>
    <geometry>
      <box size="0.01 0.4 0.25"/>
    </geometry>
  </collision>
  </link>
  <joint
    name="J_box1"
    type="fixed">
    <origin
      xyz="-0.02812 -0.43858 0.3575"
      rpy="0 0 0" />
    <parent
      link="base_link" />
    <child
      link="box_link" />
    <axis
      xyz="0 0 0" />
  </joint>
  <link
    name="Sbox1">
    <inertial>
      <origin
        xyz="-0.0294521228117989 -0.0181434301400363 -0.00321227754553127"
        rpy="0 0 0" />
      <mass
        value="0.891461835933509" />
      <inertia
        ixx="0.0069458426853299"
        ixy="0.00143955862764452"
        ixz="-6.54109835378711E-06"
        iyy="0.00493625296740043"
        iyz="-5.64676492921899E-06"
        izz="0.00611318081333504" />
    </inertial>
    <visual>
      <origin
        xyz="0 0 0"
        rpy="0 0 0" />
      <geometry>
        <mesh
          filename="../meshes/Sbox1.STL" />
      </geometry>
      <material
        name="">
        <color
          rgba="1 0.737254901960784 0.247058823529412 1" />
      </material>
    </visual>
    <collision>
      <origin
        xyz="0 0 0"
        rpy="0 0 0" />
      <geometry>
        <mesh
          filename="../meshes/Sbox1.STL" />
      </geometry>
    </collision>
  </link>
  <joint
    name="j_Sbox1"
    type="fixed">
    <origin
      xyz="0.45561 0.40413 0.1235"
      rpy="-1.5708 0 -1.5708" />
    <parent
      link="base_link" />
    <child
      link="Sbox1" />
    <axis
      xyz="0 0 0" />
  </joint>
  <link
    name="Sbox2">
    <inertial>
      <origin
        xyz="-0.0294521228117987 -0.0181434301400364 -0.0032122775455311"
        rpy="0 0 0" />
      <mass
        value="0.891461835933508" />
      <inertia
        ixx="0.00694584268532987"
        ixy="0.00143955862764451"
        ixz="-6.54109835378696E-06"
        iyy="0.00493625296740038"
        iyz="-5.64676492923127E-06"
        izz="0.00611318081333495" />
    </inertial>
    <visual>
      <origin
        xyz="0 0 0"
        rpy="0 0 0" />
      <geometry>
        <mesh
          filename="../meshes/Sbox2.STL" />
      </geometry>
      <material
        name="">
        <color
          rgba="1 0.737254901960784 0.247058823529412 1" />
      </material>
    </visual>
    <collision>
      <origin
        xyz="0 0 0"
        rpy="0 0 0" />
      <geometry>
        <mesh
          filename="../meshes/Sbox2.STL" />
      </geometry>
    </collision>
  </link>
  <joint
    name="J_Sbox2"
    type="fixed">
    <origin
      xyz="0.0041491 0.40508 0.1005"
      rpy="-1.5708 0 -1.5708" />
    <parent
      link="base_link" />
    <child
      link="Sbox2" />
    <axis
      xyz="0 0 0" />
  </joint>
  <link
    name="base2">
    <inertial>
      <origin
        xyz="-1.11022302462516E-16 -0.005 -2.08166817117217E-17"
        rpy="0 0 0" />
      <mass
        value="7.29000000000001" />
      <inertia
        ixx="0.21876075"
        ixy="-2.00406097966565E-19"
        ixz="-4.33949751132979E-17"
        iyy="0.34171875"
        iyz="-1.76232317127185E-35"
        izz="0.1230795" />
    </inertial>
    <visual>
      <origin
        xyz="0 0 0"
        rpy="0 0 0" />
      <geometry>
        <mesh
          filename="../meshes/base2.STL" />
      </geometry>
      <material
        name="">
        <color
          rgba="0.898039215686275 0.917647058823529 0.929411764705882 1" />
      </material>
    </visual>
    <collision>
      <origin
        xyz="0 0 0"
        rpy="0 0 0" />
      <geometry>
        <mesh
          filename="../meshes/base2.STL" />
      </geometry>
    </collision>
  </link>
  <joint
    name="J_base2"
    type="fixed">
    <origin
      xyz="0.55043 -0.10818 0.1895"
      rpy="-1.5708 0 0" />
    <parent
      link="base_link" />
    <child
      link="base2" />
    <axis
      xyz="0 0 0" />
  </joint>
  <link
    name="base3">
    <inertial>
      <origin
        xyz="-1.38777878078145E-17 0 -0.005"
        rpy="0 0 0" />
      <mass
        value="5.56875" />
      <inertia
        ixx="0.0653051953125"
        ixy="-9.57242098087451E-18"
        ixz="-6.41332690079492E-20"
        iyy="0.1404253125"
        iyz="-2.66214405999079E-35"
        izz="0.2056376953125" />
    </inertial>
    <visual>
      <origin
        xyz="0 0 0"
        rpy="0 0 0" />
      <geometry>
        <mesh
          filename="../meshes/base3.STL" />
      </geometry>
      <material
        name="">
        <color
          rgba="0.898039215686275 0.917647058823529 0.929411764705882 1" />
      </material>
    </visual>
    <collision>
      <origin
        xyz="0 0 0"
        rpy="0 0 0" />
      <geometry>
        <mesh
          filename="../meshes/base3.STL" />
      </geometry>
    </collision>
  </link>
  <joint
    name="J_base3"
    type="fixed">
    <origin
      xyz="0.00043304 0.32032 0.1895"
      rpy="3.1416 0 0" />
    <parent
      link="base_link" />
    <child
      link="base3" />
    <axis
      xyz="0 0 0" />
  </joint>
  <link
    name="bsae4">
    <inertial>
      <origin
        xyz="-0.0207923626368445 0.343067630222129 -0.468696236768628"
        rpy="0 0 0" />
      <mass
        value="30.8708694684072" />
      <inertia
        ixx="1.30034713911167"
        ixy="-0.00689651218188683"
        ixz="-0.00333912195466688"
        iyy="1.02368809303574"
        iyz="-0.00199183641909817"
        izz="2.20172657520933" />
    </inertial>
    <visual>
      <origin
        xyz="0 0 0"
        rpy="0 0 0" />
      <geometry>
        <mesh
          filename="../meshes/bsae4.STL" />
      </geometry>
      <material
        name="">
        <color
          rgba="1 1 1 1" />
      </material>
    </visual>
    <collision>
      <origin
        xyz="0 0 0"
        rpy="0 0 0" />
      <geometry>
        <mesh
          filename="../meshes/bsae4.STL" />
      </geometry>
    </collision>
  </link>
  <joint
    name="J_base4"
    type="fixed">
    <origin
      xyz="0.00043304 -0.030452 0.0395"
      rpy="-3.1416 0 0" />
    <parent
      link="base_link" />
    <child
      link="bsae4" />
    <axis
      xyz="0 0 0" />
  </joint>
  <link
    name="PD">
    <inertial>
      <origin
        xyz="0.00866292295340547 0.288225896921182 -0.0425527820625178"
        rpy="0 0 0" />
      <mass
        value="41.4799763839389" />
      <inertia
        ixx="0.609619080743764"
        ixy="0.00198697458753424"
        ixz="4.19438264141395E-05"
        iyy="8.59452645574208"
        iyz="2.77933127686186E-05"
        izz="9.00871905491377" />
    </inertial>
    <visual>
      <origin
        xyz="0 0 0"
        rpy="0 0 0" />
      <geometry>
        <mesh
          filename="../meshes/PD.STL" />
      </geometry>
      <material
        name="">
        <color
          rgba="0.792156862745098 0.819607843137255 0.933333333333333 1" />
      </material>
    </visual>
    <collision>
      <origin
        xyz="0 0 0"
        rpy="0 0 0" />
      <geometry>
        <mesh
          filename="../meshes/PD.STL" />
      </geometry>
    </collision>
  </link>
  <joint
    name="J_PD"
    type="fixed">
    <origin
      xyz="0.02219 0.4272 0.2125"
      rpy="3.1416 0 0" />
    <parent
      link="base_link" />
    <child
      link="PD" />
    <axis
      xyz="0 0 0" />
  </joint>
</robot>
